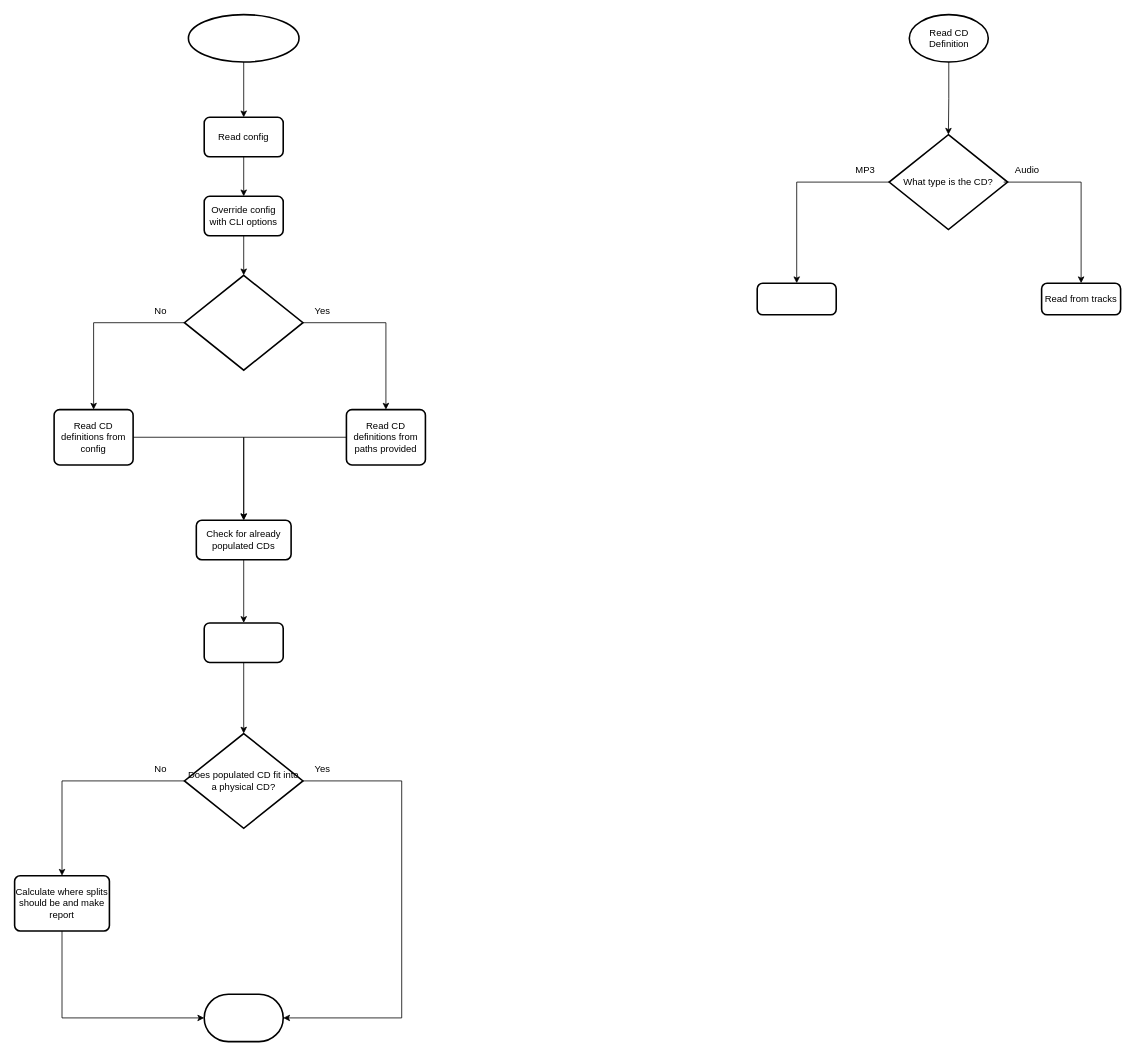
Image size: 1134x1055. Some labels were removed from this diagram. Each missing label, with the centre of its shape:
"Did user provide CD definition paths?" goes at point (243, 322).
"Finish" goes at point (243, 1017).
"Populate missing tracks" goes at point (243, 642).
"Read from folders" goes at point (796, 298).
"User runs cdman" goes at point (243, 37).
